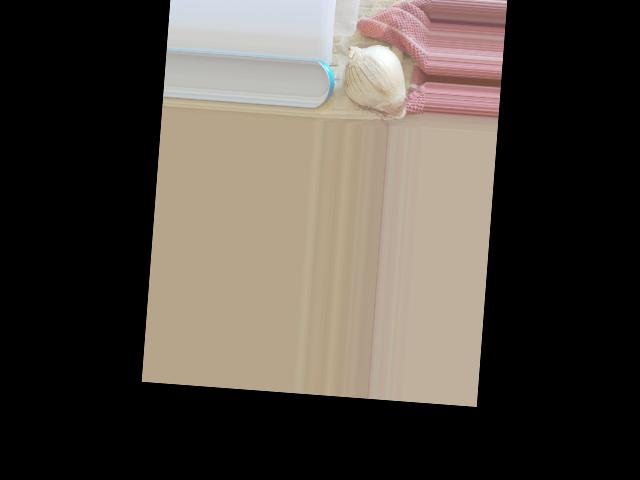onion: (339, 43, 411, 118)
